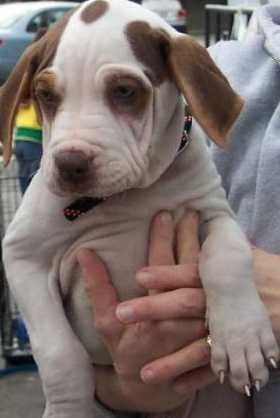Dog: (0, 0, 264, 400)
